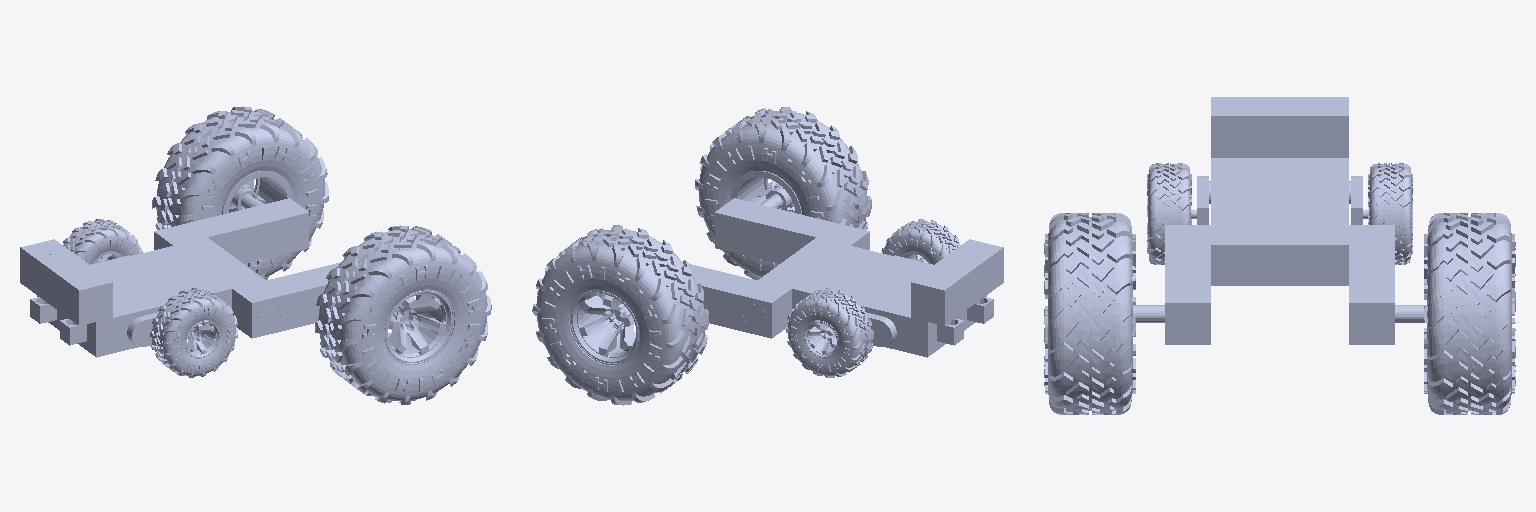
The robot description file, URDF, robot "optimus_front":
<?xml version="1.0" encoding="utf-8"?>
<!-- This URDF was automatically created by SolidWorks to URDF Exporter! Originally created by [author] ([email redacted]) 
     Commit Version: 1.6.0-1-g15f4949  Build Version: 1.6.7594.29634
     For more information, please see http://wiki.ros.org/sw_urdf_exporter -->
<robot
  name="optimus_front">
  <link
    name="optimus_front">
    <inertial>
      <origin
        xyz="0.02527 -5.5511E-17 0.44"
        rpy="0 0 0" />
      <mass
        value="122.44" />
      <inertia
        ixx="4.8934"
        ixy="4.7307E-16"
        ixz="7.5918E-17"
        iyy="11.325"
        iyz="-4.8804E-17"
        izz="15.407" />
    </inertial>
    <visual>
      <origin
        xyz="0 0 0"
        rpy="0 0 0" />
      <geometry>
        <mesh
          filename="package://optimus_front/meshes/optimus_front.STL" />
      </geometry>
      <material
        name="">
        <color
          rgba="0.79216 0.81961 0.93333 1" />
      </material>
    </visual>
    <collision>
      <origin
        xyz="0 0 0"
        rpy="0 0 0" />
      <geometry>
        <mesh
          filename="package://optimus_front/meshes/optimus_front.STL" />
      </geometry>
    </collision>
  </link>
  <link
    name="FR_outer_wheel_connector_link">
    <inertial>
      <origin
        xyz="0.32228 -0.1 -1.5632E-17"
        rpy="0 0 0" />
      <mass
        value="27.916" />
      <inertia
        ixx="0.19555"
        ixy="-5.5199E-17"
        ixz="1.6328E-16"
        iyy="1.4236"
        iyz="4.1633E-19"
        izz="1.4141" />
    </inertial>
    <visual>
      <origin
        xyz="0 0 0"
        rpy="0 0 0" />
      <geometry>
        <mesh
          filename="package://optimus_front/meshes/FR_outer_wheel_connector_link.STL" />
      </geometry>
      <material
        name="">
        <color
          rgba="0.79216 0.81961 0.93333 1" />
      </material>
    </visual>
    <collision>
      <origin
        xyz="0 0 0"
        rpy="0 0 0" />
      <geometry>
        <mesh
          filename="package://optimus_front/meshes/FR_outer_wheel_connector_link.STL" />
      </geometry>
    </collision>
  </link>
  <joint
    name="FR_outer_wheel_connector_joint"
    type="revolute">
    <origin
      xyz="0.4 -0.3 0.44"
      rpy="0 0 0" />
    <parent
      link="optimus_front" />
    <child
      link="FR_outer_wheel_connector_link" />
    <axis
      xyz="0 1 0" />
    <limit
      lower="0"
      upper="0"
      effort="0"
      velocity="0" />
  </joint>
  <link
    name="FR_outer_wheel_link">
    <inertial>
      <origin
        xyz="-3.1136E-06 -0.51235 -8.1188E-07"
        rpy="0 0 0" />
      <mass
        value="41.762" />
      <inertia
        ixx="2.9874"
        ixy="-7.3894E-06"
        ixz="4.6203E-06"
        iyy="4.6324"
        iyz="-1.9206E-06"
        izz="2.9874" />
    </inertial>
    <visual>
      <origin
        xyz="0 0 0"
        rpy="0 0 0" />
      <geometry>
        <mesh
          filename="package://optimus_front/meshes/FR_outer_wheel_link.STL" />
      </geometry>
      <material
        name="">
        <color
          rgba="0.79216 0.81961 0.93333 1" />
      </material>
    </visual>
    <collision>
      <origin
        xyz="0 0 0"
        rpy="0 0 0" />
      <geometry>
        <mesh
          filename="package://optimus_front/meshes/FR_outer_wheel_link.STL" />
      </geometry>
    </collision>
  </link>
  <joint
    name="FR_outer_wheel_joint"
    type="continuous">
    <origin
      xyz="0.6 0 0"
      rpy="0 0 0" />
    <parent
      link="FR_outer_wheel_connector_link" />
    <child
      link="FR_outer_wheel_link" />
    <axis
      xyz="0 -1 0" />
  </joint>
  <link
    name="FL_outer_wheel_connector_link">
    <inertial>
      <origin
        xyz="0.32228 0.1 -4.4016E-17"
        rpy="0 0 0" />
      <mass
        value="27.916" />
      <inertia
        ixx="0.19555"
        ixy="-2.088E-17"
        ixz="7.16E-17"
        iyy="1.4236"
        iyz="2.0447E-17"
        izz="1.4141" />
    </inertial>
    <visual>
      <origin
        xyz="0 0 0"
        rpy="0 0 0" />
      <geometry>
        <mesh
          filename="package://optimus_front/meshes/FL_outer_wheel_connector_link.STL" />
      </geometry>
      <material
        name="">
        <color
          rgba="0.79216 0.81961 0.93333 1" />
      </material>
    </visual>
    <collision>
      <origin
        xyz="0 0 0"
        rpy="0 0 0" />
      <geometry>
        <mesh
          filename="package://optimus_front/meshes/FL_outer_wheel_connector_link.STL" />
      </geometry>
    </collision>
  </link>
  <joint
    name="FL_outer_wheel_connector_joint"
    type="revolute">
    <origin
      xyz="0.4 0.3 0.44"
      rpy="0 0 0" />
    <parent
      link="optimus_front" />
    <child
      link="FL_outer_wheel_connector_link" />
    <axis
      xyz="0 1 0" />
    <limit
      lower="0"
      upper="0"
      effort="0"
      velocity="0" />
  </joint>
  <link
    name="FL_outer_wheel_link">
    <inertial>
      <origin
        xyz="-1.331E-06 0.51235 -2.9296E-06"
        rpy="0 0 0" />
      <mass
        value="41.762" />
      <inertia
        ixx="2.9874"
        ixy="3.1528E-06"
        ixz="7.1398E-06"
        iyy="4.6324"
        iyz="6.9536E-06"
        izz="2.9874" />
    </inertial>
    <visual>
      <origin
        xyz="0 0 0"
        rpy="0 0 0" />
      <geometry>
        <mesh
          filename="package://optimus_front/meshes/FL_outer_wheel_link.STL" />
      </geometry>
      <material
        name="">
        <color
          rgba="0.79216 0.81961 0.93333 1" />
      </material>
    </visual>
    <collision>
      <origin
        xyz="0 0 0"
        rpy="0 0 0" />
      <geometry>
        <mesh
          filename="package://optimus_front/meshes/FL_outer_wheel_link.STL" />
      </geometry>
    </collision>
  </link>
  <joint
    name="FL_outer_wheel_joint"
    type="continuous">
    <origin
      xyz="0.6 0 0"
      rpy="0 0 0" />
    <parent
      link="FL_outer_wheel_connector_link" />
    <child
      link="FL_outer_wheel_link" />
    <axis
      xyz="0 1 0" />
  </joint>
  <link
    name="FR_inner_wheel_connector_link">
    <inertial>
      <origin
        xyz="0.12462 -0.034175 -4.7957E-18"
        rpy="0 0 0" />
      <mass
        value="2.8575" />
      <inertia
        ixx="0.0058124"
        ixy="0.00029364"
        ixz="-6.7493E-20"
        iyy="0.040326"
        iyz="-1.441E-19"
        izz="0.035811" />
    </inertial>
    <visual>
      <origin
        xyz="0 0 0"
        rpy="0 0 0" />
      <geometry>
        <mesh
          filename="package://optimus_front/meshes/FR_inner_wheel_connector_link.STL" />
      </geometry>
      <material
        name="">
        <color
          rgba="0.79216 0.81961 0.93333 1" />
      </material>
    </visual>
    <collision>
      <origin
        xyz="0 0 0"
        rpy="0 0 0" />
      <geometry>
        <mesh
          filename="package://optimus_front/meshes/FR_inner_wheel_connector_link.STL" />
      </geometry>
    </collision>
  </link>
  <joint
    name="FR_inner_wheel_connector_joint"
    type="revolute">
    <origin
      xyz="-0.25 -0.3 0.44"
      rpy="0 0 0" />
    <parent
      link="optimus_front" />
    <child
      link="FR_inner_wheel_connector_link" />
    <axis
      xyz="0 1 0" />
    <limit
      lower="0"
      upper="0"
      effort="0"
      velocity="0" />
  </joint>
  <link
    name="FR_inner_wheel_link">
    <inertial>
      <origin
        xyz="2.038E-06 -0.12256 -2.6606E-06"
        rpy="0 0 0" />
      <mass
        value="5.005" />
      <inertia
        ixx="0.092407"
        ixy="1.4492E-07"
        ixz="-2.8633E-07"
        iyy="0.14472"
        iyz="-1.8954E-07"
        izz="0.092407" />
    </inertial>
    <visual>
      <origin
        xyz="0 0 0"
        rpy="0 0 0" />
      <geometry>
        <mesh
          filename="package://optimus_front/meshes/FR_inner_wheel_link.STL" />
      </geometry>
      <material
        name="">
        <color
          rgba="0.79216 0.81961 0.93333 1" />
      </material>
    </visual>
    <collision>
      <origin
        xyz="0 0 0"
        rpy="0 0 0" />
      <geometry>
        <mesh
          filename="package://optimus_front/meshes/FR_inner_wheel_link.STL" />
      </geometry>
    </collision>
  </link>
  <joint
    name="FR_inner_wheel_joint"
    type="continuous">
    <origin
      xyz="0.22 -0.06 0"
      rpy="0 0 0" />
    <parent
      link="FR_inner_wheel_connector_link" />
    <child
      link="FR_inner_wheel_link" />
    <axis
      xyz="0 -1 0" />
  </joint>
  <link
    name="FL_inner_wheel_connector_link">
    <inertial>
      <origin
        xyz="0.12462 0.034175 -5.101E-17"
        rpy="0 0 0" />
      <mass
        value="2.8575" />
      <inertia
        ixx="0.0058124"
        ixy="-0.00029364"
        ixz="-8.4277E-19"
        iyy="0.040326"
        iyz="1.5116E-19"
        izz="0.035811" />
    </inertial>
    <visual>
      <origin
        xyz="0 0 0"
        rpy="0 0 0" />
      <geometry>
        <mesh
          filename="package://optimus_front/meshes/FL_inner_wheel_connector_link.STL" />
      </geometry>
      <material
        name="">
        <color
          rgba="0.79216 0.81961 0.93333 1" />
      </material>
    </visual>
    <collision>
      <origin
        xyz="0 0 0"
        rpy="0 0 0" />
      <geometry>
        <mesh
          filename="package://optimus_front/meshes/FL_inner_wheel_connector_link.STL" />
      </geometry>
    </collision>
  </link>
  <joint
    name="FL_inner_wheel_connector_joint"
    type="revolute">
    <origin
      xyz="-0.25 0.3 0.44"
      rpy="0 0 0" />
    <parent
      link="optimus_front" />
    <child
      link="FL_inner_wheel_connector_link" />
    <axis
      xyz="0 -1 0" />
    <limit
      lower="0"
      upper="0"
      effort="0"
      velocity="0" />
  </joint>
  <link
    name="FL_inner_wheel_link">
    <inertial>
      <origin
        xyz="2.3339E-06 0.12256 2.4053E-06"
        rpy="0 0 0" />
      <mass
        value="5.005" />
      <inertia
        ixx="0.092407"
        ixy="-1.66E-07"
        ixz="2.9659E-07"
        iyy="0.14472"
        iyz="-1.7138E-07"
        izz="0.092407" />
    </inertial>
    <visual>
      <origin
        xyz="0 0 0"
        rpy="0 0 0" />
      <geometry>
        <mesh
          filename="package://optimus_front/meshes/FL_inner_wheel_link.STL" />
      </geometry>
      <material
        name="">
        <color
          rgba="0.79216 0.81961 0.93333 1" />
      </material>
    </visual>
    <collision>
      <origin
        xyz="0 0 0"
        rpy="0 0 0" />
      <geometry>
        <mesh
          filename="package://optimus_front/meshes/FL_inner_wheel_link.STL" />
      </geometry>
    </collision>
  </link>
  <joint
    name="FL_inner_wheel_joint"
    type="continuous">
    <origin
      xyz="0.22 0.06 0"
      rpy="0 0 0" />
    <parent
      link="FL_inner_wheel_connector_link" />
    <child
      link="FL_inner_wheel_link" />
    <axis
      xyz="0 1 0" />
  </joint>
  <link
    name="docker_link">
    <inertial>
      <origin
        xyz="0.0045718 -5.5511E-17 -0.1"
        rpy="0 0 0" />
      <mass
        value="21.989" />
      <inertia
        ixx="0.74725"
        ixy="-2.5019E-17"
        ixz="1.0257E-17"
        iyy="0.14701"
        iyz="-3.4694E-17"
        izz="0.74767" />
    </inertial>
    <visual>
      <origin
        xyz="0 0 0"
        rpy="0 0 0" />
      <geometry>
        <mesh
          filename="package://optimus_front/meshes/docker_link.STL" />
      </geometry>
      <material
        name="">
        <color
          rgba="0.79216 0.81961 0.93333 1" />
      </material>
    </visual>
    <collision>
      <origin
        xyz="0 0 0"
        rpy="0 0 0" />
      <geometry>
        <mesh
          filename="package://optimus_front/meshes/docker_link.STL" />
      </geometry>
    </collision>
  </link>
  <joint
    name="docker_joint"
    type="fixed">
    <origin
      xyz="-0.5 0 0.74"
      rpy="0 0 0" />
    <parent
      link="optimus_front" />
    <child
      link="docker_link" />
    <axis
      xyz="0 0 0" />
  </joint>
  <link
    name="R_docker_shaft_link">
    <inertial>
      <origin
        xyz="0 0 -0.1"
        rpy="0 0 0" />
      <mass
        value="1.0053" />
      <inertia
        ixx="0.0037532"
        ixy="-4.6587E-20"
        ixz="-4.5175E-20"
        iyy="0.0037532"
        iyz="5.9411E-36"
        izz="0.00080425" />
    </inertial>
    <visual>
      <origin
        xyz="0 0 0"
        rpy="0 0 0" />
      <geometry>
        <mesh
          filename="package://optimus_front/meshes/R_docker_shaft_link.STL" />
      </geometry>
      <material
        name="">
        <color
          rgba="0.79216 0.81961 0.93333 1" />
      </material>
    </visual>
    <collision>
      <origin
        xyz="0 0 0"
        rpy="0 0 0" />
      <geometry>
        <mesh
          filename="package://optimus_front/meshes/R_docker_shaft_link.STL" />
      </geometry>
    </collision>
  </link>
  <joint
    name="R_docker_shaft_joint"
    type="prismatic">
    <origin
      xyz="-0.05 -0.15 0"
      rpy="0 0 0" />
    <parent
      link="docker_link" />
    <child
      link="R_docker_shaft_link" />
    <axis
      xyz="0 0 1" />
    <limit
      lower="-1"
      upper="0"
      effort="0"
      velocity="0" />
  </joint>
  <link
    name="L_docker_shaft_link">
    <inertial>
      <origin
        xyz="0 -1.1102E-16 -0.1"
        rpy="0 0 0" />
      <mass
        value="1.0053" />
      <inertia
        ixx="0.0037532"
        ixy="-1.0588E-21"
        ixz="4.3507E-36"
        iyy="0.0037532"
        iyz="1.177E-35"
        izz="0.00080425" />
    </inertial>
    <visual>
      <origin
        xyz="0 0 0"
        rpy="0 0 0" />
      <geometry>
        <mesh
          filename="package://optimus_front/meshes/L_docker_shaft_link.STL" />
      </geometry>
      <material
        name="">
        <color
          rgba="0.79216 0.81961 0.93333 1" />
      </material>
    </visual>
    <collision>
      <origin
        xyz="0 0 0"
        rpy="0 0 0" />
      <geometry>
        <mesh
          filename="package://optimus_front/meshes/L_docker_shaft_link.STL" />
      </geometry>
    </collision>
  </link>
  <joint
    name="L_docker_shaft_joint"
    type="prismatic">
    <origin
      xyz="-0.05 0.15 0"
      rpy="0 0 0" />
    <parent
      link="docker_link" />
    <child
      link="L_docker_shaft_link" />
    <axis
      xyz="0 0 1" />
    <limit
      lower="-1"
      upper="0"
      effort="0"
      velocity="0" />
  </joint>
</robot>

--- What the picture shows (computed from the rendered views, not written in the file) ---
The picture shows the robot from 3 angles, left to right: view 1: azimuth 30°, elevation 25°; view 2: azimuth 150°, elevation 25°; view 3: azimuth 270°, elevation 25°; orthographic projection.
Model optimus_front with 12 links and 11 joints (4 revolute, 4 continuous, 2 prismatic, 1 fixed), rooted at optimus_front, posed all joints at 0.
Links seen in each view (by area): view 1: FR_outer_wheel_link, FL_outer_wheel_link, optimus_front, FR_inner_wheel_link, FL_outer_wheel_connector_link, docker_link, FR_outer_wheel_connector_link, FL_inner_wheel_link, FR_inner_wheel_connector_link; view 2: FL_outer_wheel_link, FR_outer_wheel_link, optimus_front, FL_inner_wheel_link, FR_outer_wheel_connector_link, docker_link, FL_outer_wheel_connector_link, FR_inner_wheel_link, FL_inner_wheel_connector_link; view 3: FL_outer_wheel_link, FR_outer_wheel_link, optimus_front, docker_link, FR_outer_wheel_connector_link, FL_outer_wheel_connector_link, FL_inner_wheel_link, FR_inner_wheel_link, FR_inner_wheel_connector_link, FL_inner_wheel_connector_link.
Link boxes in pixels (bbox=[...]): FR_outer_wheel_link: bbox=[315, 225, 491, 404]; FL_outer_wheel_link: bbox=[152, 106, 328, 279]; optimus_front: bbox=[30, 237, 280, 357]; FR_inner_wheel_link: bbox=[150, 288, 237, 377]; FL_outer_wheel_connector_link: bbox=[154, 198, 308, 263]; docker_link: bbox=[20, 239, 112, 325]; FR_outer_wheel_connector_link: bbox=[232, 262, 340, 338]; FL_inner_wheel_link: bbox=[63, 219, 142, 264]; FR_inner_wheel_connector_link: bbox=[127, 312, 158, 346]; FL_outer_wheel_link: bbox=[532, 225, 708, 405]; FR_outer_wheel_link: bbox=[695, 107, 871, 279]; optimus_front: bbox=[743, 237, 993, 357]; FL_inner_wheel_link: bbox=[786, 288, 873, 377]; FR_outer_wheel_connector_link: bbox=[715, 198, 869, 263]; docker_link: bbox=[911, 239, 1003, 325]; FL_outer_wheel_connector_link: bbox=[689, 264, 791, 338]; FR_inner_wheel_link: bbox=[881, 219, 960, 264]; FL_inner_wheel_connector_link: bbox=[866, 312, 896, 346]; FL_outer_wheel_link: bbox=[1395, 213, 1515, 414]; FR_outer_wheel_link: bbox=[1044, 213, 1164, 414]; optimus_front: bbox=[1211, 158, 1348, 285]; docker_link: bbox=[1211, 97, 1348, 157]; FR_outer_wheel_connector_link: bbox=[1165, 225, 1210, 344]; FL_outer_wheel_connector_link: bbox=[1349, 225, 1394, 344]; FL_inner_wheel_link: bbox=[1363, 163, 1412, 264]; FR_inner_wheel_link: bbox=[1147, 163, 1196, 264]; FR_inner_wheel_connector_link: bbox=[1197, 176, 1210, 224]; FL_inner_wheel_connector_link: bbox=[1349, 176, 1362, 224].
Size in the robot's own frame: 2.04 by 2.05 by 0.8843 metres.
12 mesh visuals loaded from 12 distinct referenced files (12 binary STL).